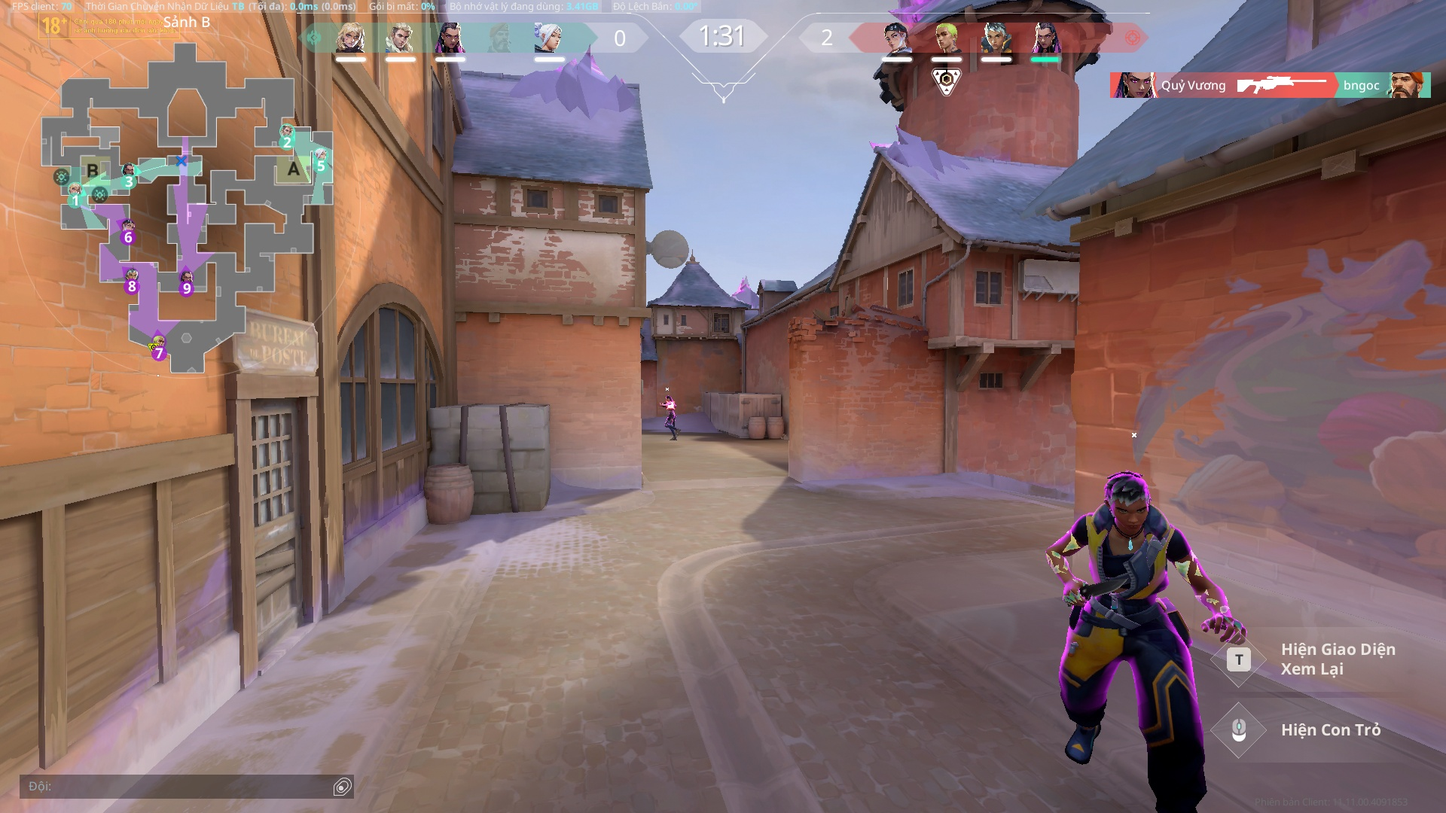body: (1073, 500, 1177, 597), (665, 400, 676, 411)
head: (1099, 468, 1143, 524), (666, 394, 670, 400)
